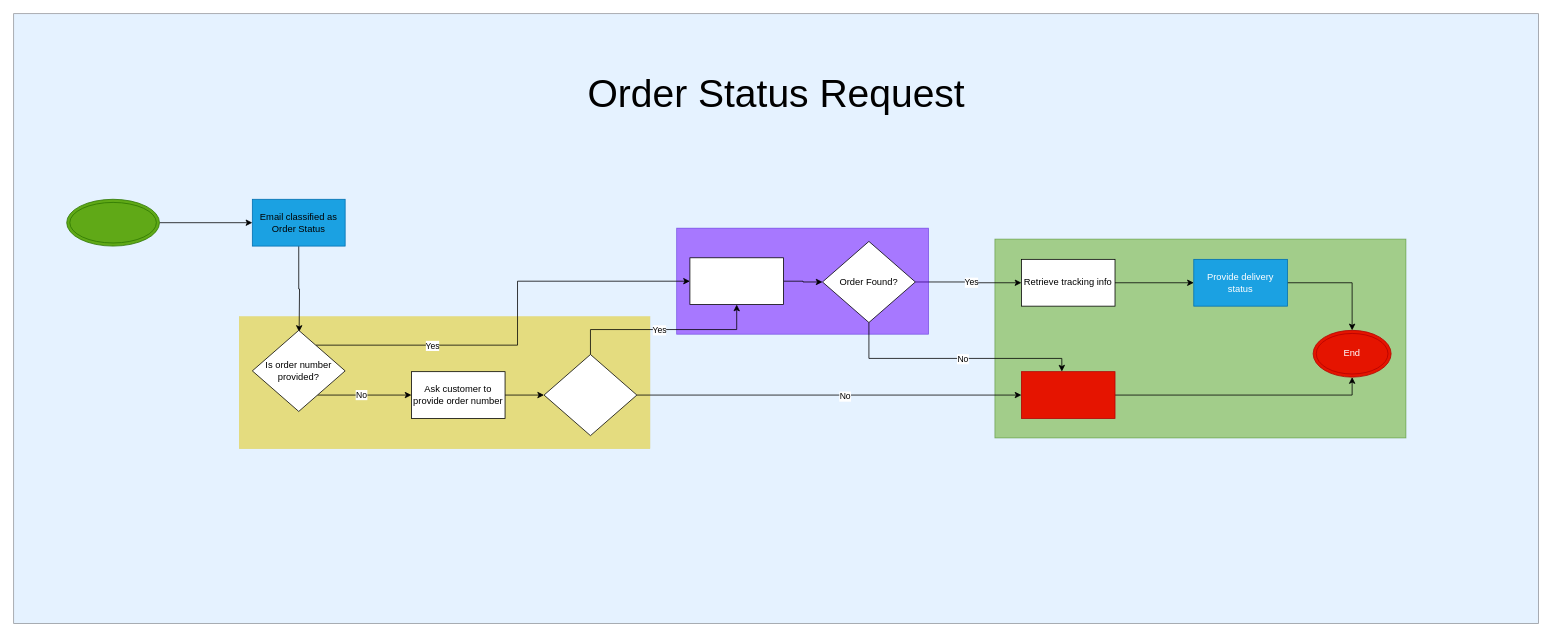
Image size: 1552x637. Some labels were removed from this diagram. The shapes that lost their labels are listed below. From the top down, each one's centre as x and y in pixels, then its label:
pixel 113 222: Start
pixel 736 281: Check order in system
pixel 590 395: Provided now?
pixel 1068 394: Escale to CC agent
